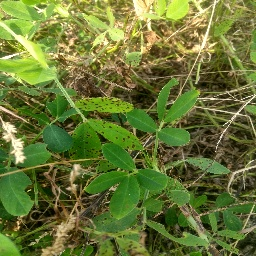GroundNut_Leaf: (1, 168, 35, 216), (68, 123, 102, 168), (1, 58, 57, 85), (156, 89, 200, 122), (112, 177, 140, 220), (103, 142, 138, 171), (8, 143, 52, 166), (75, 97, 135, 113), (2, 1, 42, 20), (187, 158, 230, 175), (158, 127, 191, 147), (222, 209, 245, 233), (166, 1, 190, 21), (141, 171, 169, 188), (216, 191, 236, 208)
